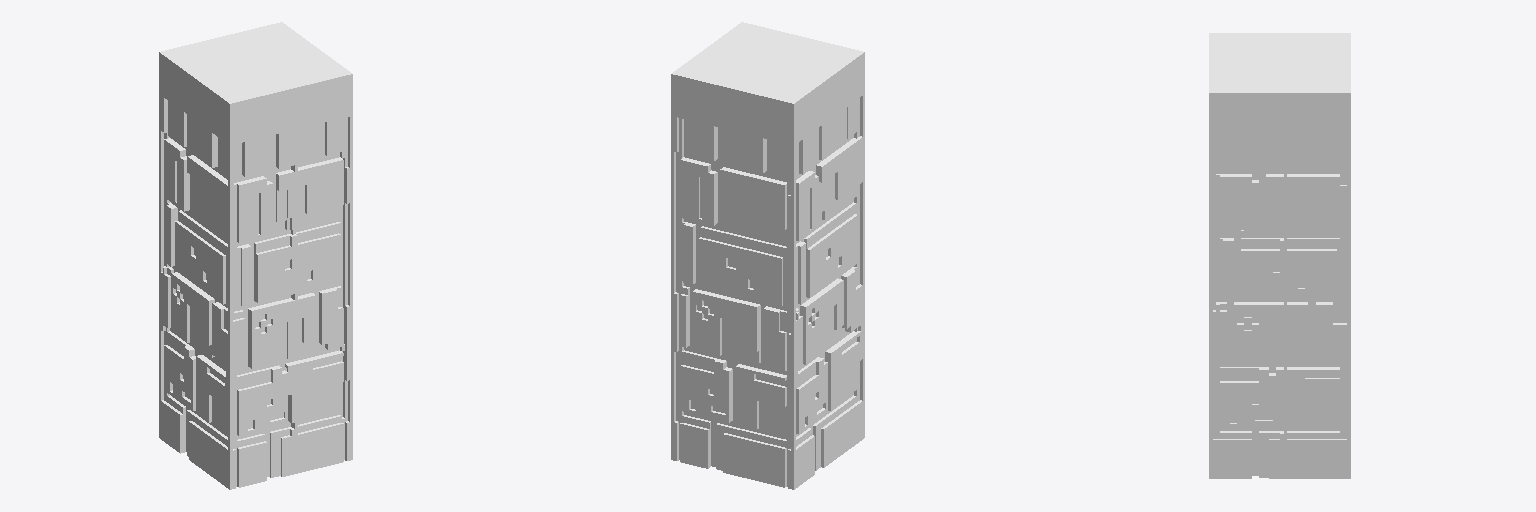
The model's file is wallBlock.obj.
3 views of the same model, side by side, from view 1: azimuth 30°, elevation 25°; view 2: azimuth 150°, elevation 25°; view 3: azimuth 270°, elevation 25° (orthographic).
Parts seen in each view (by area): view 1: object 1; view 2: object 1; view 3: object 1.
Boxes of the visible parts, x1,y1,x2,y2 form: object 1: [159, 22, 352, 489]; object 1: [671, 22, 864, 489]; object 1: [1209, 33, 1350, 478].
Bounding box in the file's own units: 4 × 12 × 4.